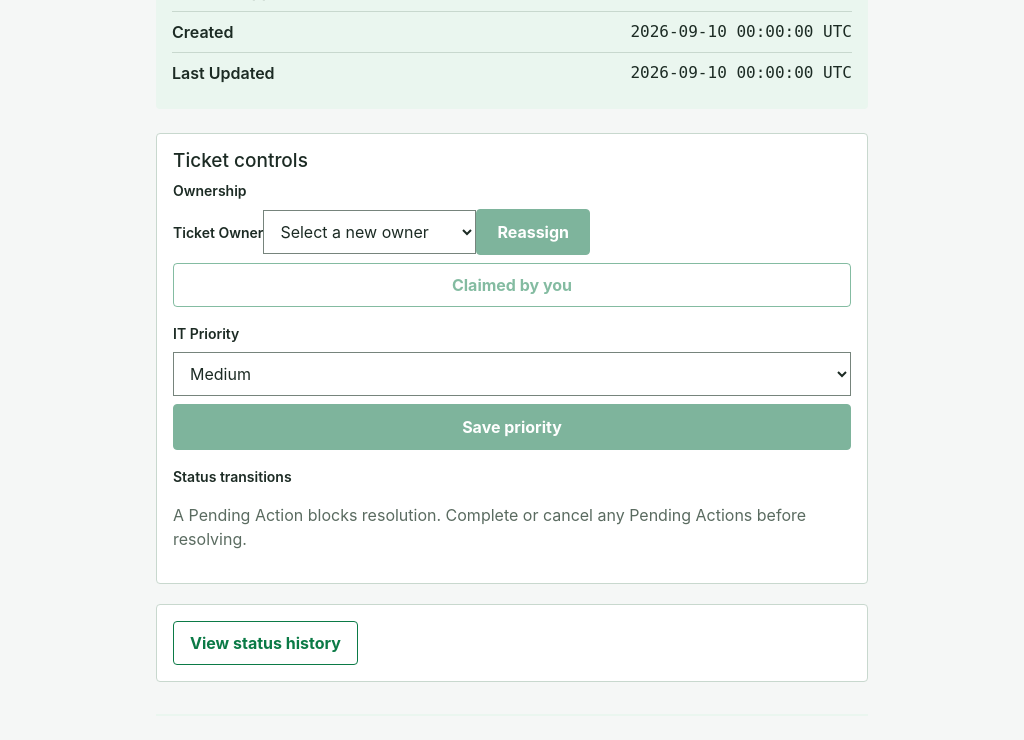
UI-STAFF-01 — Staff Ticket Detail (AC-11–14) › preserves the successful priority mutation when refresh fails
(page scrolled)
Select "High" in the dropdown labelled "IT Priority" at (512, 374), box [173,352,851,396]
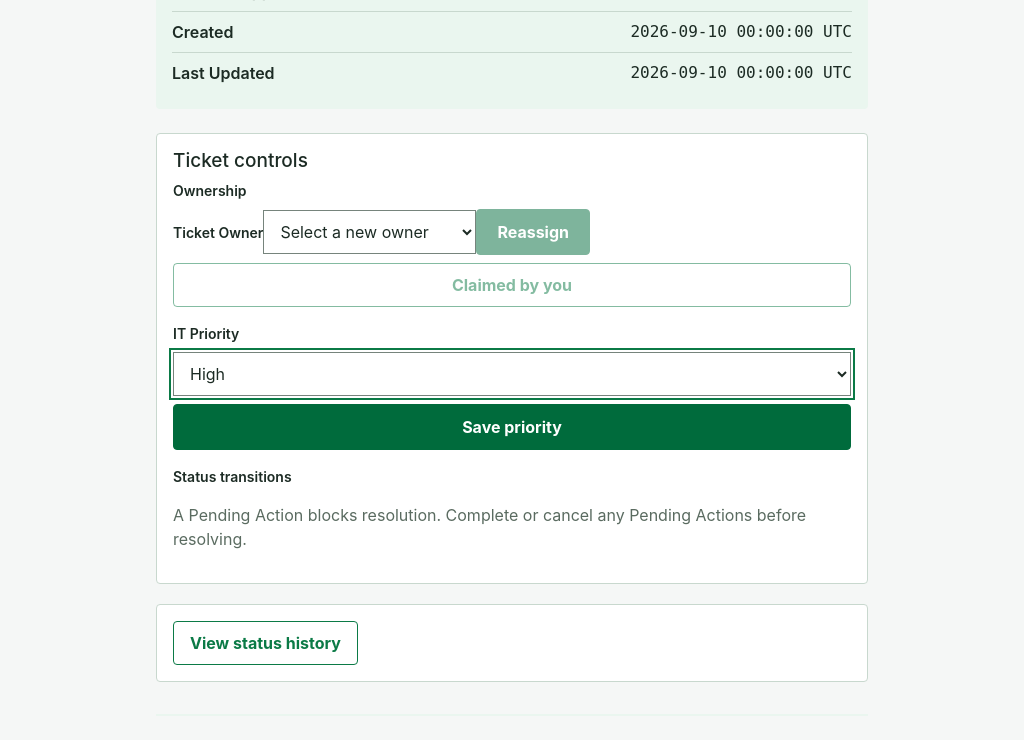
Click the button "Save priority".
click(512, 427)  # box [173,404,851,450]
(page scrolled)
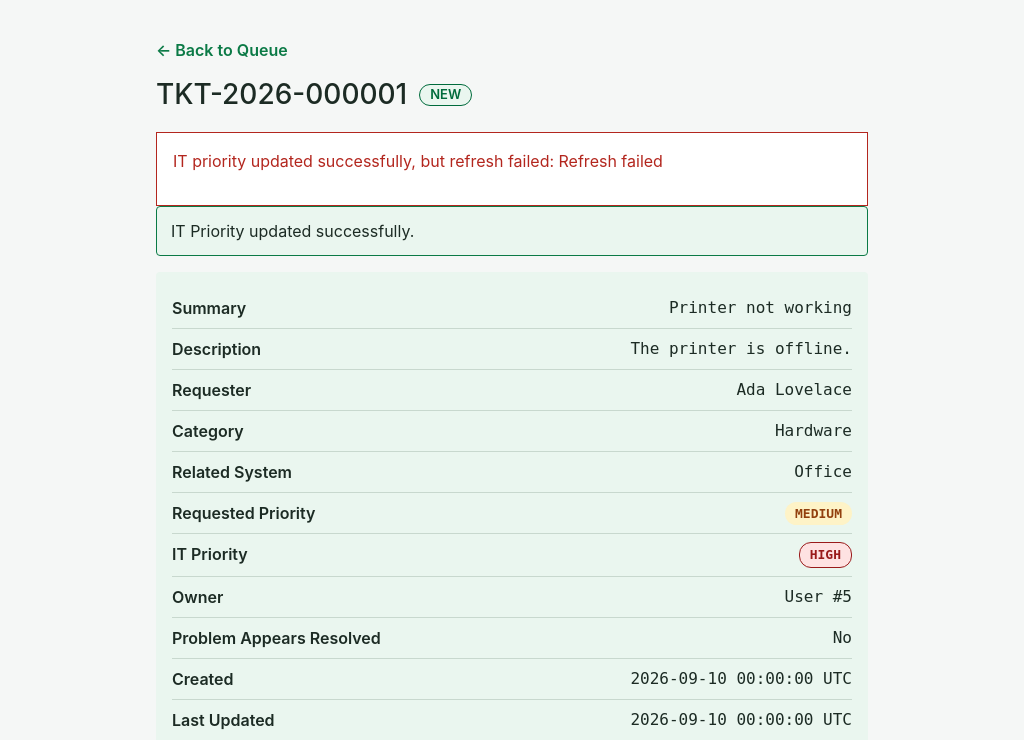
Result: the text "HIGH" is shown at [799,542,852,568]
Result: the message "IT priority updated successfully, but refresh failed: Refresh failed" is shown at [156,132,868,206]
